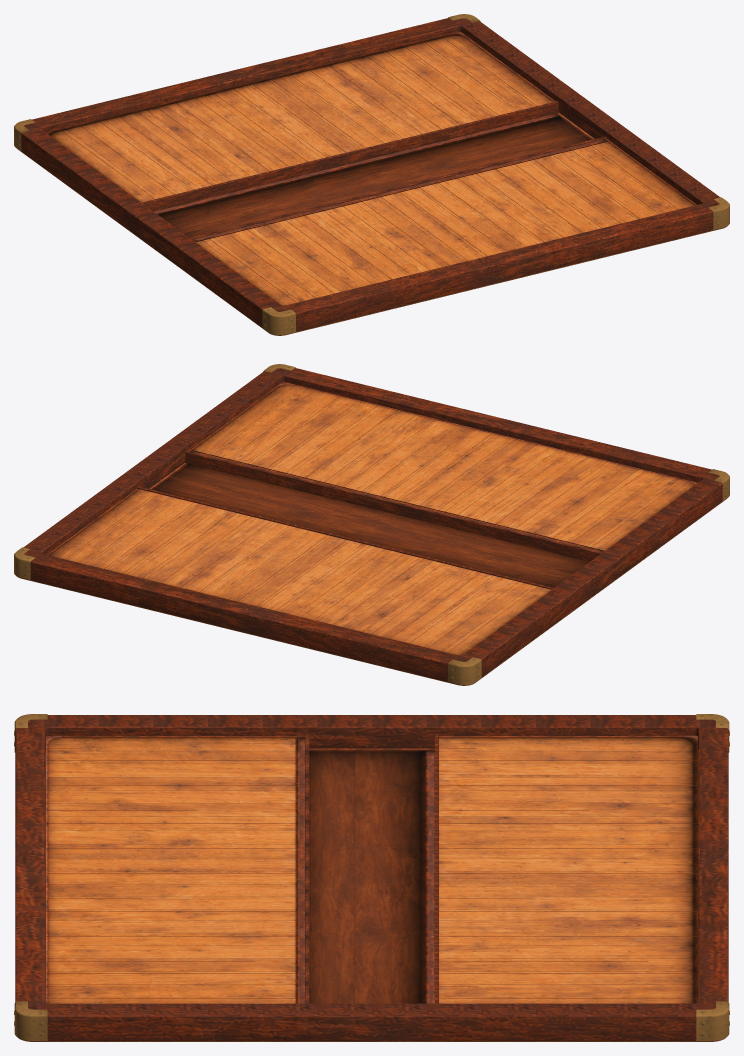
File: chapter1_ground_dry_pbr.glb
The picture shows the model from 3 angles, top to bottom: view 1: azimuth 30°, elevation 25°; view 2: azimuth 150°, elevation 25°; view 3: azimuth 270°, elevation 25°; orthographic projection. The views are drawn at different scales.
Parts seen in each view (by area): view 1: RearBank_top_oak, FrontBank_top_oak, Perimeter_frame_wood, ChannelFloor_top_oak, ChannelLips_frame_wood, CopperCorners_copper, RearBank_frame_wood, FrontBank_frame_wood, Substructure_under_wood; view 2: FrontBank_top_oak, RearBank_top_oak, Perimeter_frame_wood, ChannelFloor_top_oak, ChannelLips_frame_wood, CopperCorners_copper, FrontBank_frame_wood, RearBank_frame_wood, Substructure_under_wood; view 3: RearBank_top_oak, FrontBank_top_oak, Perimeter_frame_wood, ChannelFloor_top_oak, CopperCorners_copper, RearBank_frame_wood, FrontBank_frame_wood, ChannelLips_frame_wood, Substructure_under_wood.
Part boxes in pixels (left/top/right/bottom): RearBank_top_oak: left=47, top=32, right=555, bottom=202; FrontBank_top_oak: left=192, top=139, right=696, bottom=305; Perimeter_frame_wood: left=21, top=18, right=720, bottom=335; ChannelFloor_top_oak: left=154, top=113, right=593, bottom=237; ChannelLips_frame_wood: left=142, top=101, right=606, bottom=239; CopperCorners_copper: left=14, top=14, right=729, bottom=334; RearBank_frame_wood: left=60, top=37, right=536, bottom=198; FrontBank_frame_wood: left=207, top=143, right=676, bottom=301; Substructure_under_wood: left=18, top=113, right=727, bottom=335; FrontBank_top_oak: left=188, top=382, right=696, bottom=552; RearBank_top_oak: left=47, top=489, right=551, bottom=655; Perimeter_frame_wood: left=23, top=368, right=722, bottom=685; ChannelFloor_top_oak: left=150, top=463, right=589, bottom=587; ChannelLips_frame_wood: left=137, top=451, right=601, bottom=589; CopperCorners_copper: left=14, top=364, right=729, bottom=684; FrontBank_frame_wood: left=207, top=387, right=682, bottom=548; RearBank_frame_wood: left=66, top=494, right=536, bottom=651; Substructure_under_wood: left=16, top=463, right=725, bottom=685; RearBank_top_oak: left=439, top=736, right=697, bottom=1003; FrontBank_top_oak: left=46, top=736, right=304, bottom=1003; Perimeter_frame_wood: left=15, top=715, right=728, bottom=1040; ChannelFloor_top_oak: left=309, top=748, right=434, bottom=1003; CopperCorners_copper: left=14, top=714, right=729, bottom=1040; RearBank_frame_wood: left=439, top=748, right=697, bottom=998; FrontBank_frame_wood: left=46, top=748, right=304, bottom=998; ChannelLips_frame_wood: left=305, top=734, right=438, bottom=1003; Substructure_under_wood: left=18, top=749, right=725, bottom=1041.
Size of the model in its own units: 1.7 by 0.0738 by 1.7.
Materials: 5 (5 with a texture image).
